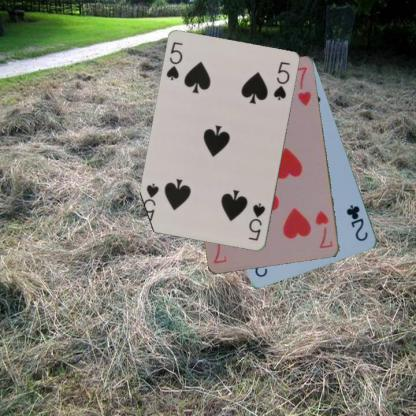2c: (344, 202, 370, 243)
5s: (246, 201, 267, 242), (164, 40, 184, 82)
7h: (313, 209, 334, 250)
